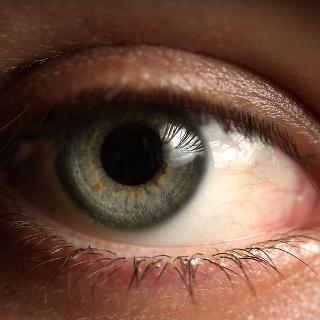pupil: (101, 121, 165, 185)
